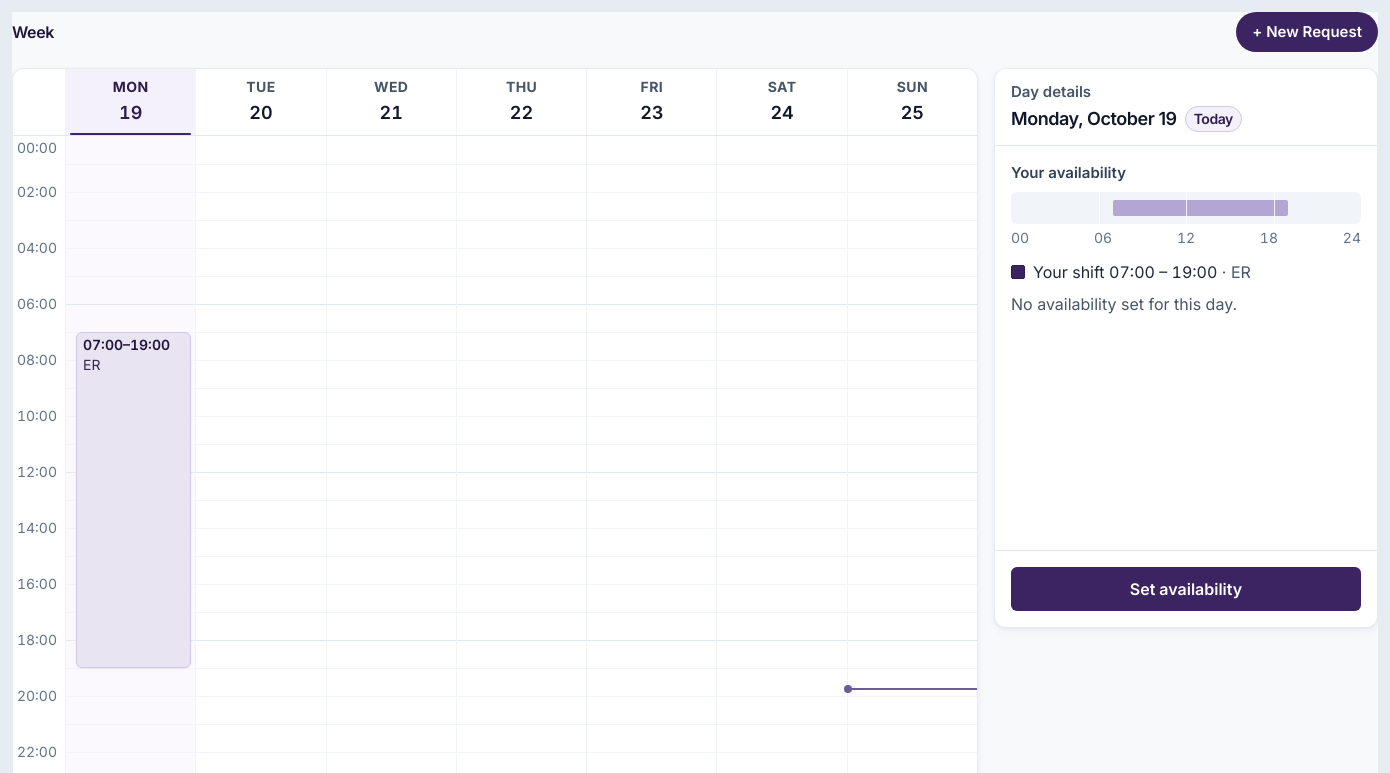
Test: AvailabilityEditor › warns in amber when the choice would leave a shift outside availability
Click the button "Set availability".
click(1186, 589)  # box 1011,567 -> 1361,611
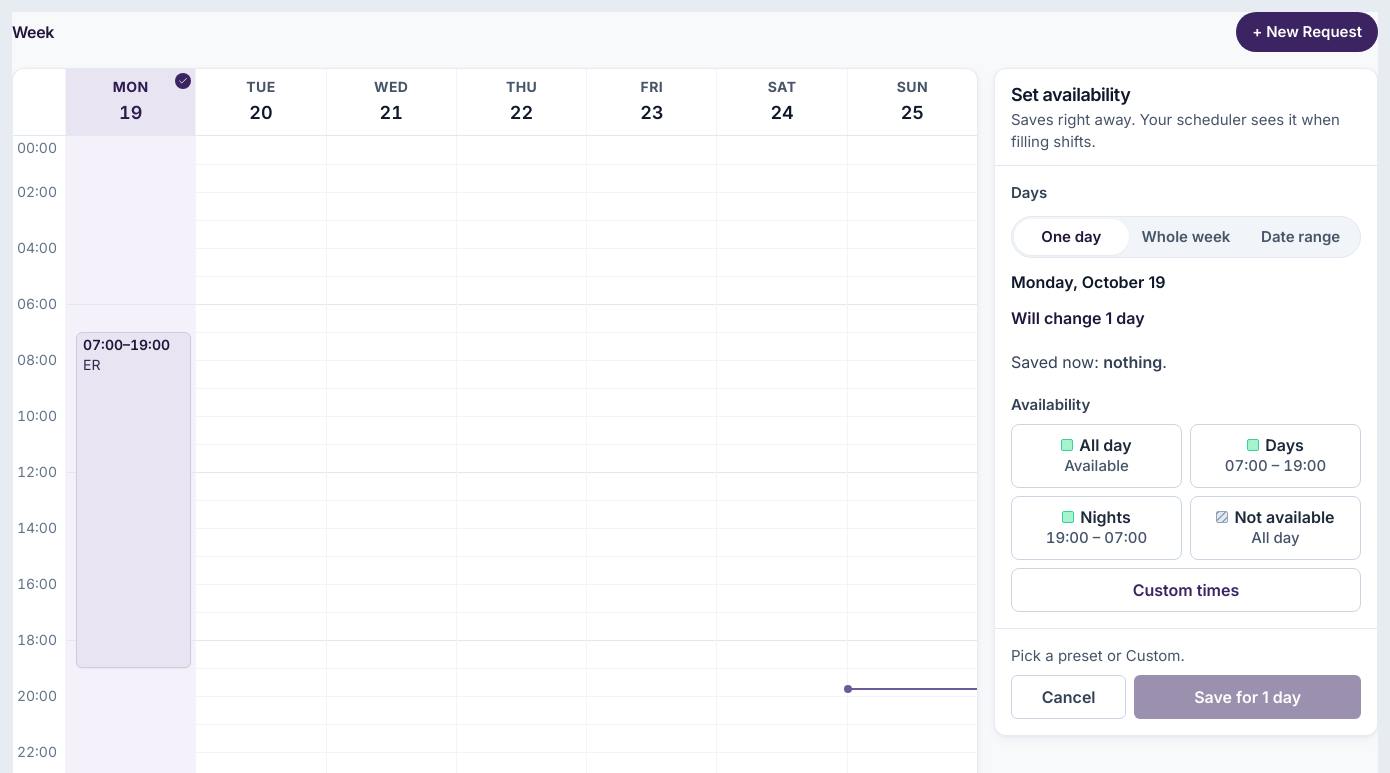
Click the button "Nights 19:00 – 07:00".
click(1096, 528)  # box 1011,496 -> 1182,560
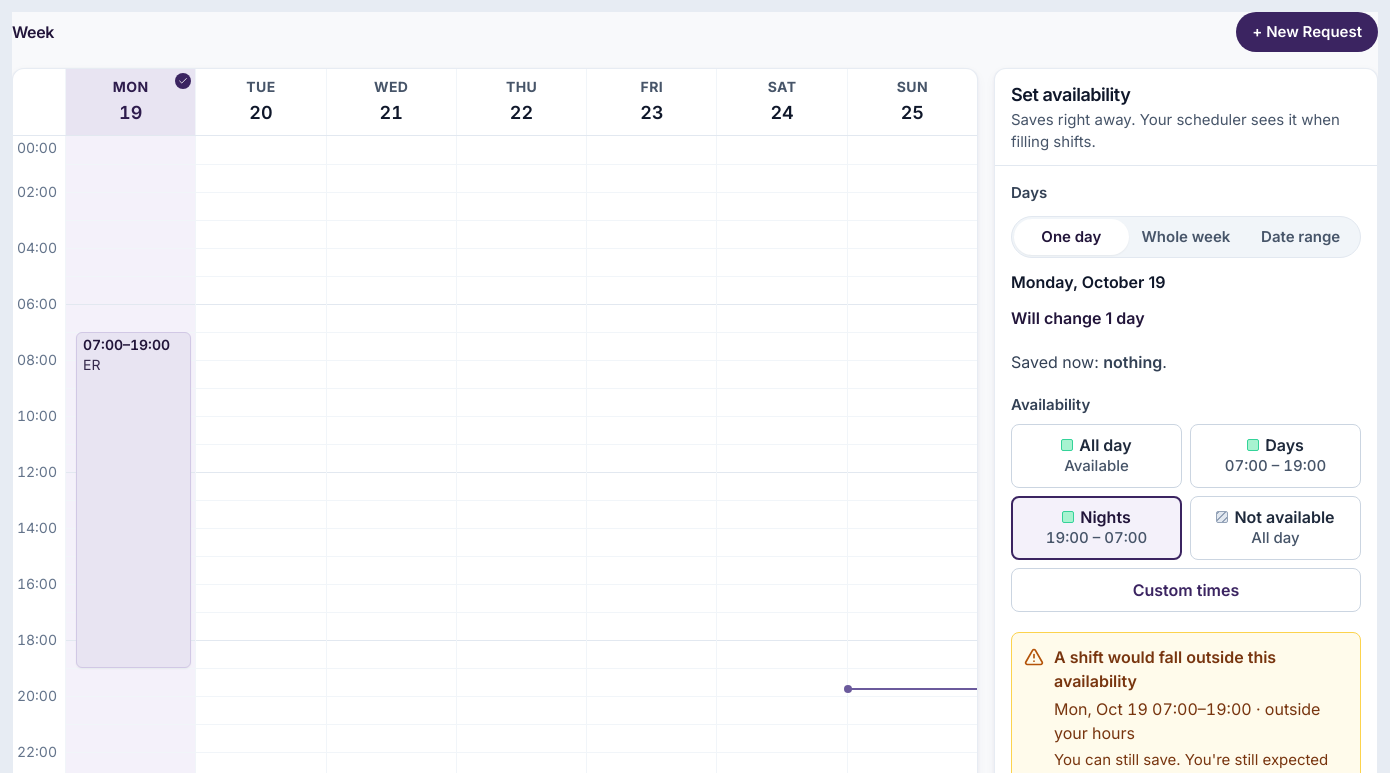
Now the text "A shift would fall outside this availability" is shown, box 1054,647 -> 1276,691
